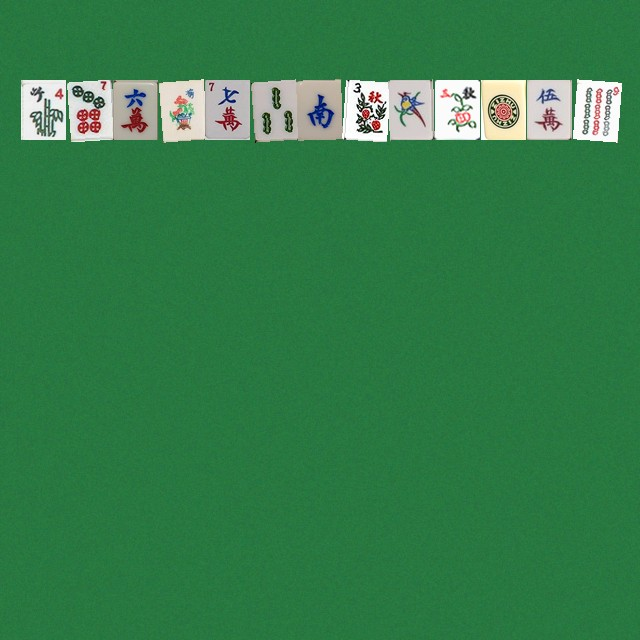tile: (20, 79, 65, 139), (66, 79, 111, 139), (112, 79, 157, 139), (158, 79, 203, 139), (204, 79, 249, 139), (250, 79, 295, 139), (296, 79, 341, 139), (342, 79, 387, 139), (388, 79, 433, 139), (434, 79, 479, 139), (480, 79, 525, 139), (526, 79, 571, 139), (572, 79, 617, 139)
